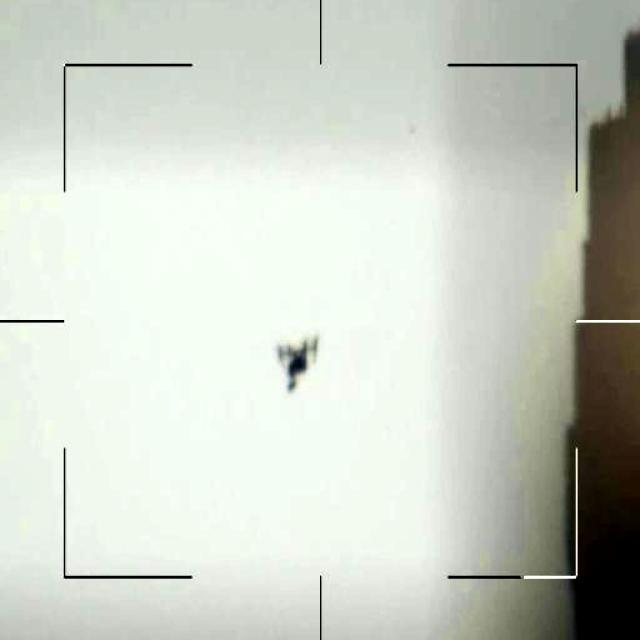bird: (271, 336, 326, 395)
